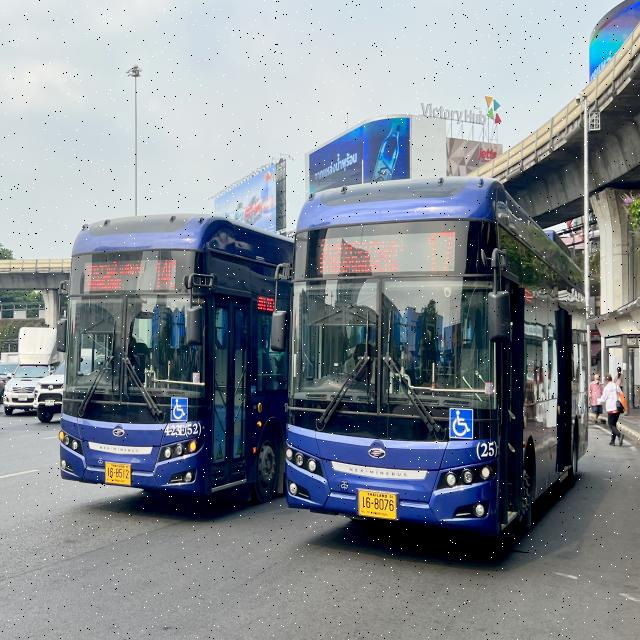Bus-Line-Number: (422, 222, 460, 278), (152, 255, 180, 293)
Destination-Sign-Normal: (318, 232, 410, 275), (81, 255, 150, 295)
TSB-Bus: (281, 166, 592, 552), (40, 206, 282, 494)
